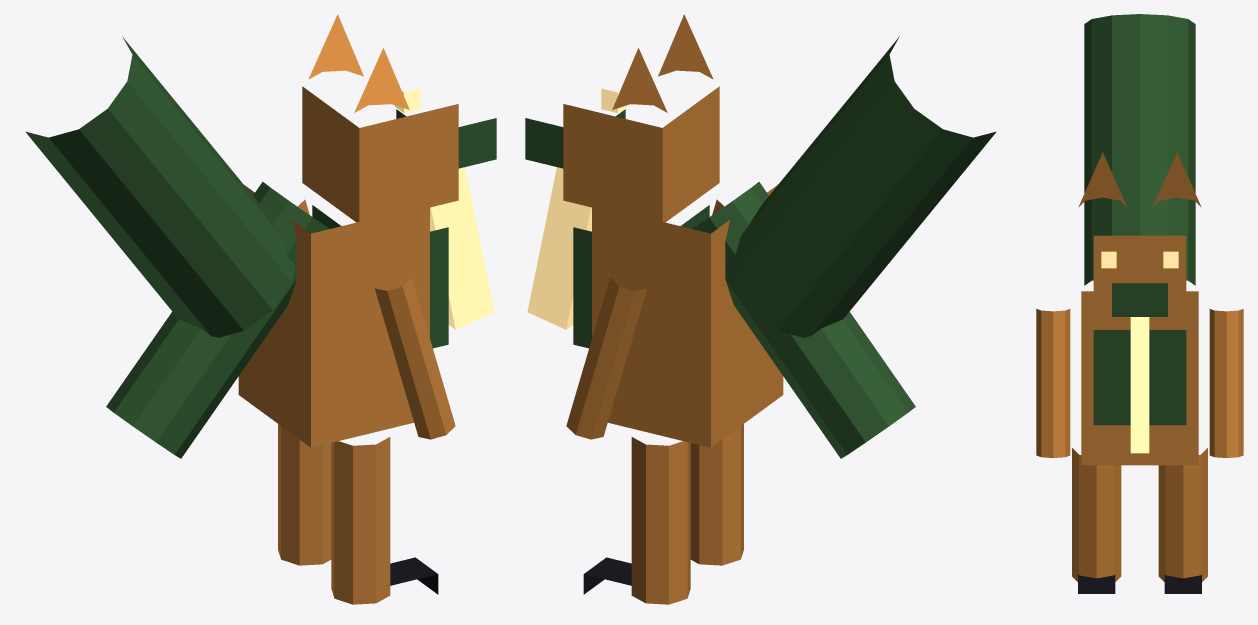
Rendered from hoodwink.glb.
3 views of the same model, side by side, from view 1: azimuth 30°, elevation 25°; view 2: azimuth 150°, elevation 25°; view 3: azimuth 270°, elevation 25° (orthographic). The views are drawn at different scales.
Visible parts, largest first — view 1: hoodwink-tail-curl, hoodwink-body, hoodwink-head, hoodwink-tail-base, hoodwink-leg-l, hoodwink-leg-r, hoodwink-arm-l, hoodwink-bow, hoodwink-chest, hoodwink-snout, hoodwink-ear-l, hoodwink-ear-r (+1 smaller); view 2: hoodwink-tail-curl, hoodwink-body, hoodwink-head, hoodwink-tail-base, hoodwink-leg-r, hoodwink-leg-l, hoodwink-arm-r, hoodwink-bow, hoodwink-chest, hoodwink-snout, hoodwink-ear-r, hoodwink-ear-l (+1 smaller); view 3: hoodwink-tail-curl, hoodwink-body, hoodwink-chest, hoodwink-leg-l, hoodwink-leg-r, hoodwink-head, hoodwink-arm-l, hoodwink-arm-r, hoodwink-bow, hoodwink-snout, hoodwink-ear-l, hoodwink-ear-r (+2 smaller).
Part boxes in pixels (x1,y1,x2,y2): hoodwink-tail-curl: (25, 36, 295, 337); hoodwink-body: (238, 185, 429, 447); hoodwink-head: (302, 86, 458, 222); hoodwink-tail-base: (106, 182, 329, 458); hoodwink-leg-l: (331, 437, 390, 604); hoodwink-leg-r: (278, 424, 331, 565); hoodwink-arm-l: (374, 277, 455, 439); hoodwink-bow: (430, 167, 494, 329); hoodwink-chest: (312, 205, 448, 348); hoodwink-snout: (396, 109, 496, 168); hoodwink-ear-l: (354, 48, 409, 112); hoodwink-ear-r: (308, 14, 363, 79); hoodwink-tail-curl: (726, 36, 996, 337); hoodwink-body: (592, 185, 783, 447); hoodwink-head: (563, 86, 719, 222); hoodwink-tail-base: (692, 182, 915, 458); hoodwink-leg-r: (631, 437, 690, 604); hoodwink-leg-l: (690, 424, 743, 565); hoodwink-arm-r: (566, 277, 647, 439); hoodwink-bow: (527, 167, 591, 329); hoodwink-chest: (573, 205, 709, 348); hoodwink-snout: (525, 109, 625, 168); hoodwink-ear-r: (612, 48, 667, 112); hoodwink-ear-l: (658, 14, 713, 79); hoodwink-tail-curl: (1084, 14, 1195, 285); hoodwink-body: (1081, 291, 1198, 465); hoodwink-chest: (1093, 330, 1186, 425); hoodwink-leg-l: (1072, 448, 1121, 581); hoodwink-leg-r: (1158, 448, 1207, 581); hoodwink-head: (1093, 235, 1186, 313); hoodwink-arm-l: (1036, 309, 1070, 457); hoodwink-arm-r: (1209, 309, 1243, 457); hoodwink-bow: (1130, 317, 1149, 453); hoodwink-snout: (1112, 283, 1167, 316); hoodwink-ear-l: (1078, 152, 1127, 207); hoodwink-ear-r: (1152, 152, 1201, 207).
Size of the model in its own units: 1.4 by 1.73 by 0.67.
